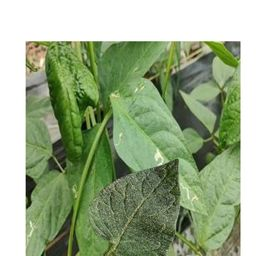liriomyza: (179, 182, 200, 204), (26, 220, 34, 248), (153, 149, 165, 166), (70, 184, 80, 199)
